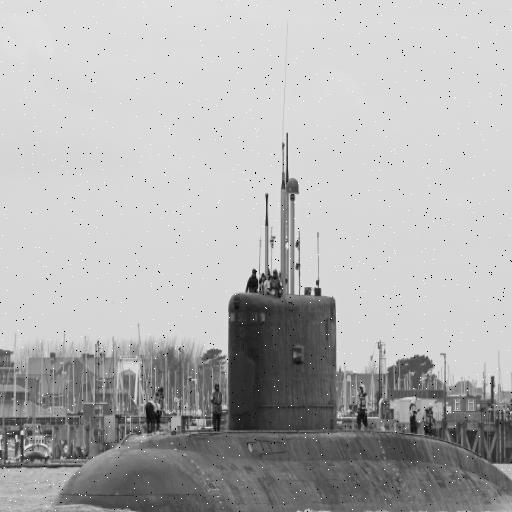submarine: (58, 123, 512, 512)
